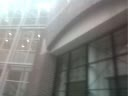window: (0, 0, 35, 96)
